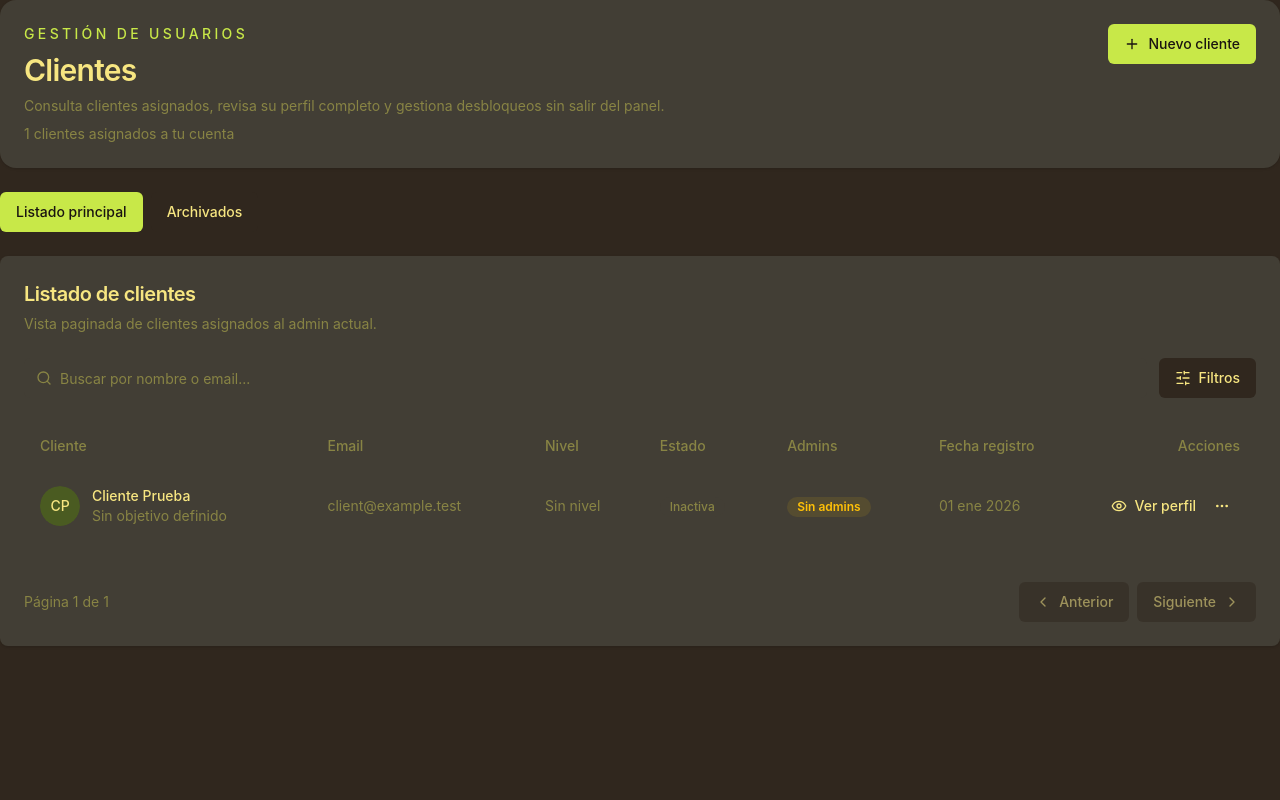
Client list archive lifecycle › refreshes the list after the archive commits but its response is lost
expect the text "Cliente Prueba" is shown: met, box [92,487,190,504]
Click the button named "Acciones de Cliente Prueba" at point(1222, 506), box [1204,488,1240,524]
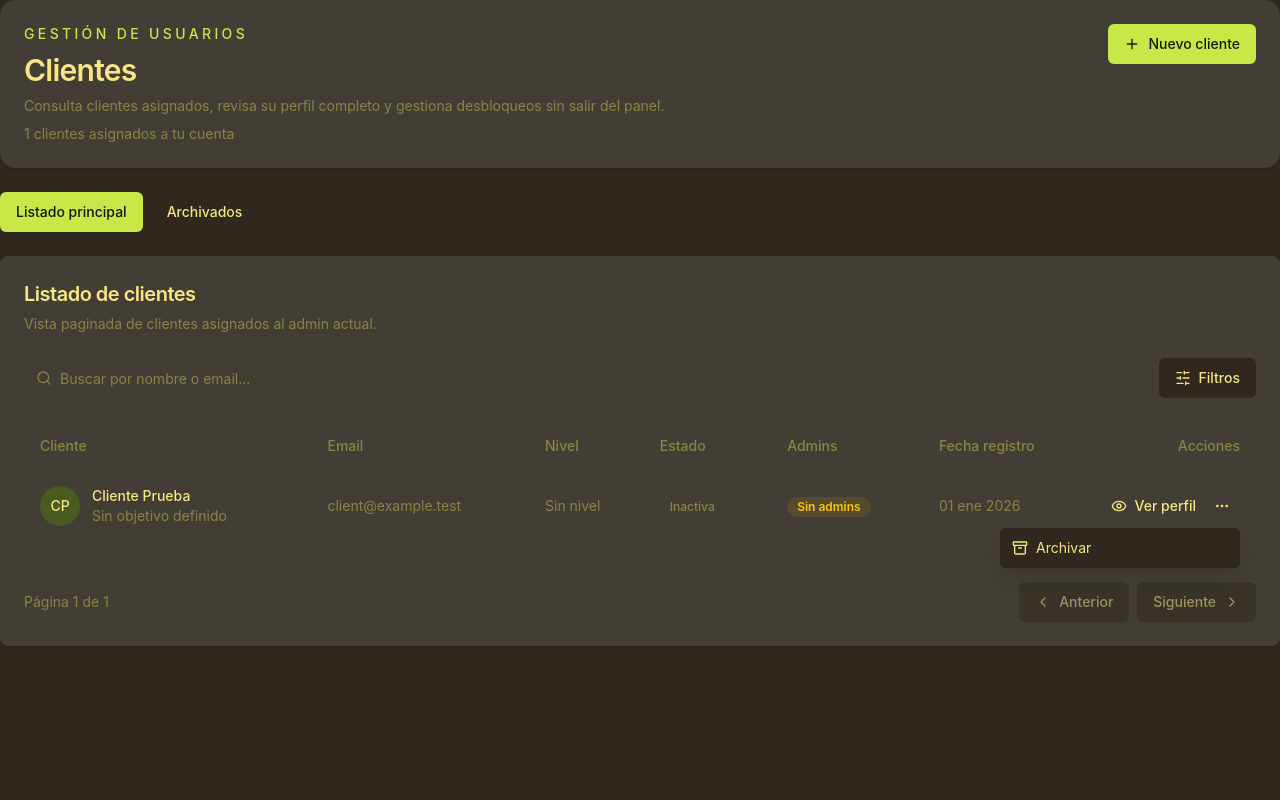
Click the menu item "Archivar" at point(1052, 548), box [1012,539,1091,556]
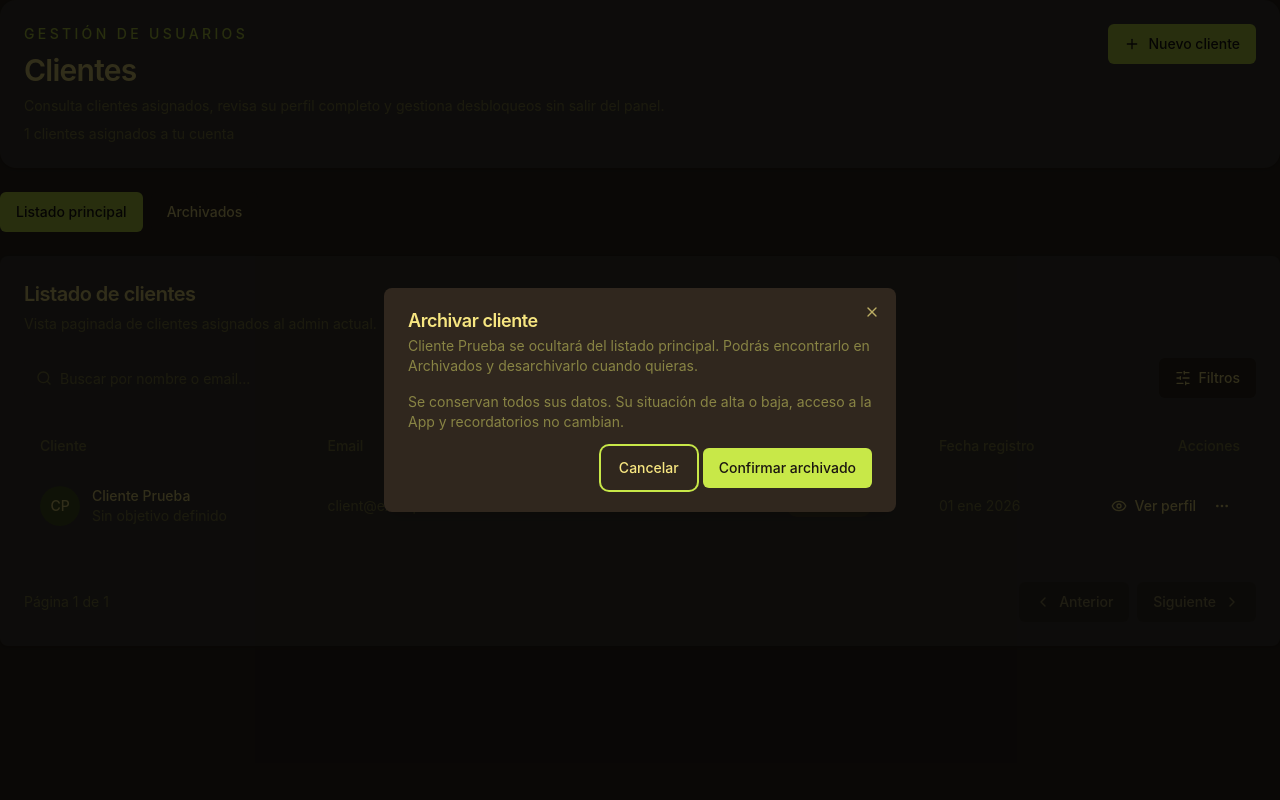
Click the button "Confirmar archivado" at point(787, 468), box [703,448,872,488]
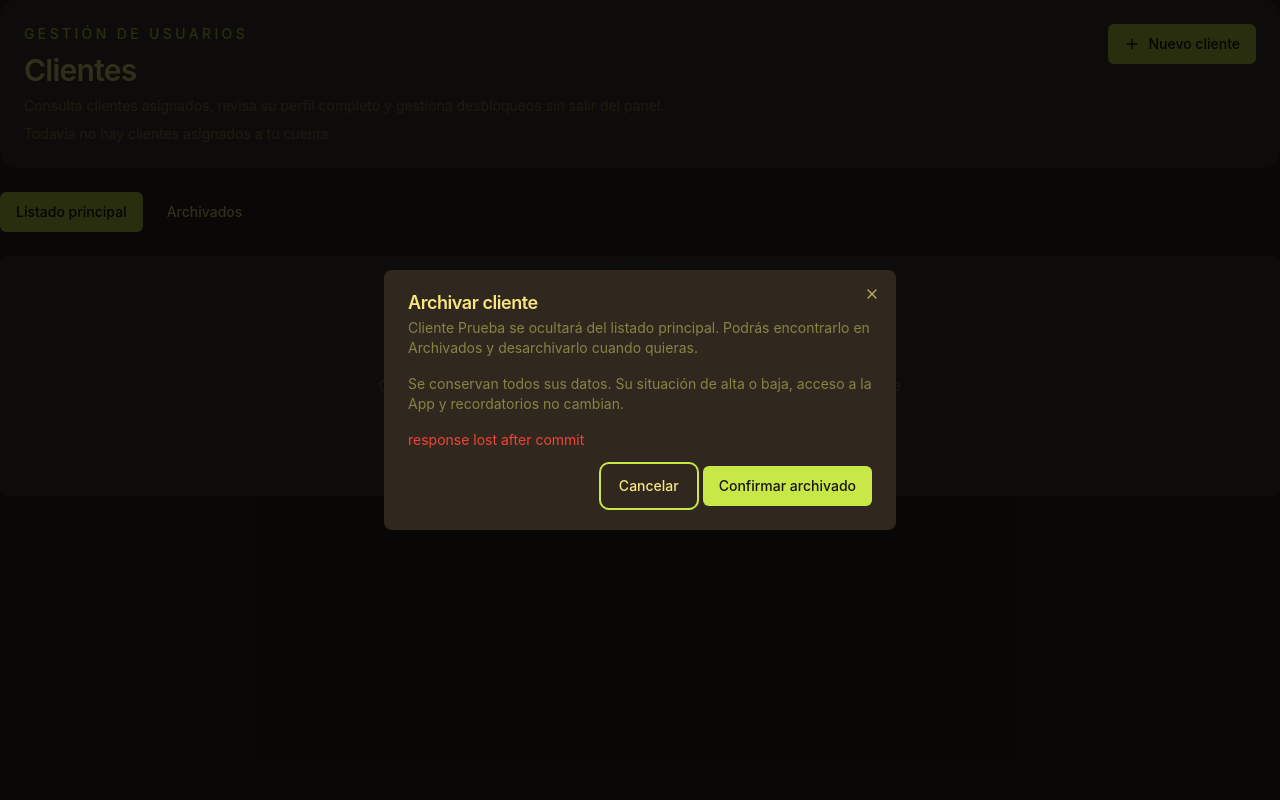
expect the message "response lost after commit" is shown: met, box [408,431,584,448]
Click the button "Cancelar" at point(649, 486), box [603,466,695,506]
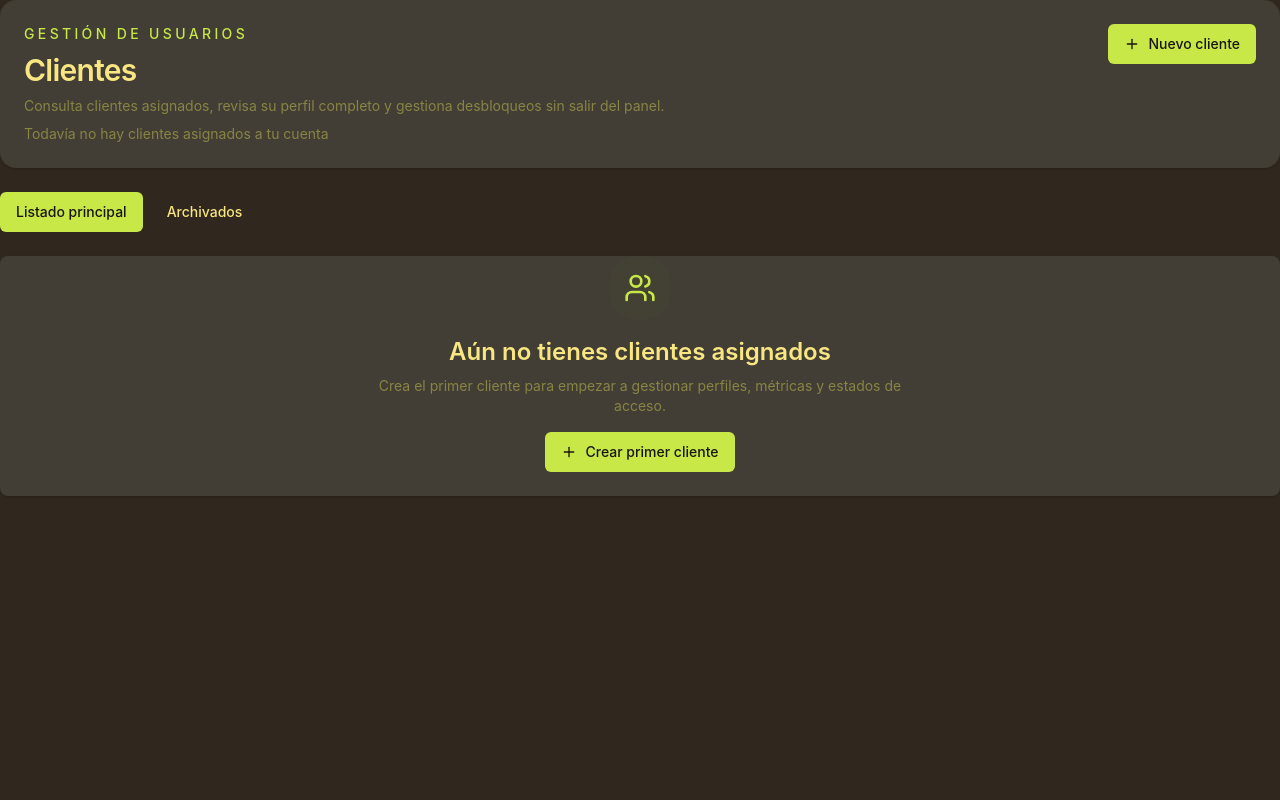
expect the text "Cliente Prueba" is gone: met
Click the button "Archivados" at point(204, 212), box [151,192,258,232]
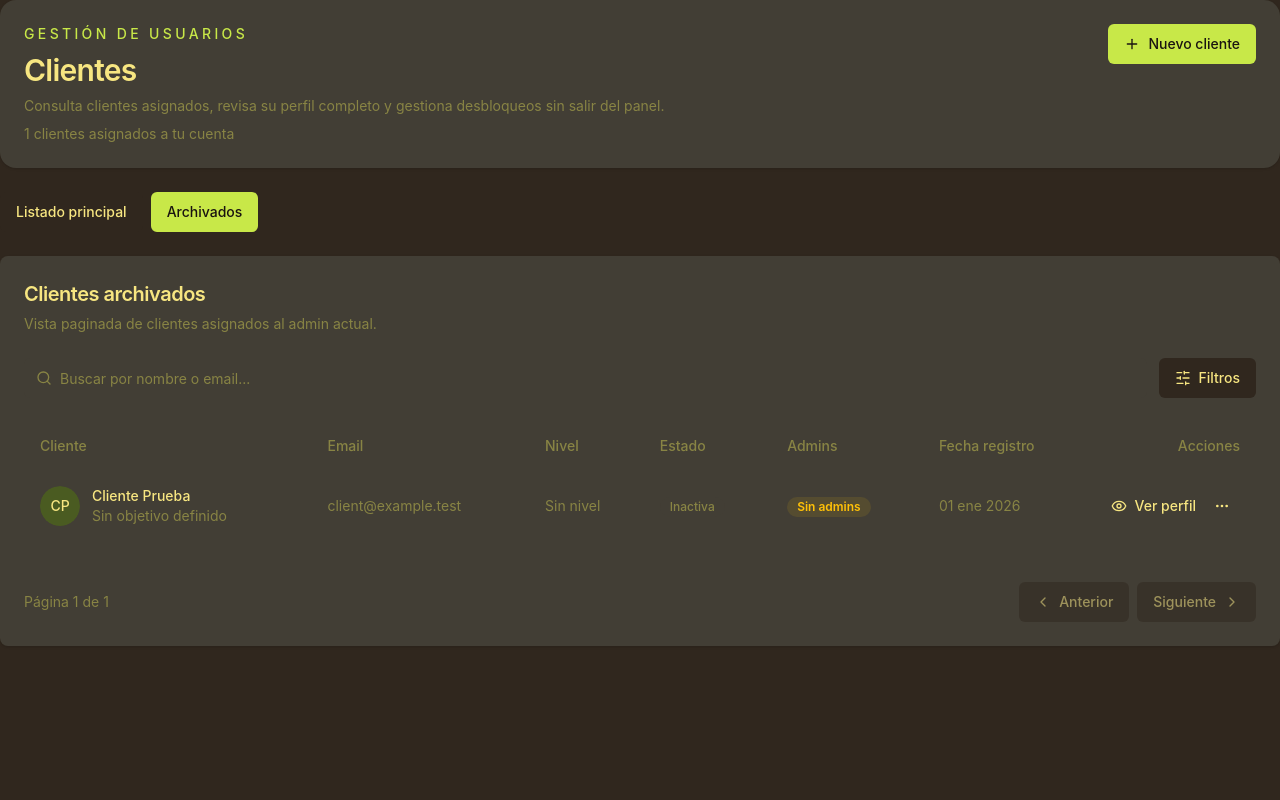
expect the text "Cliente Prueba" is shown: met, box [92,487,190,504]
